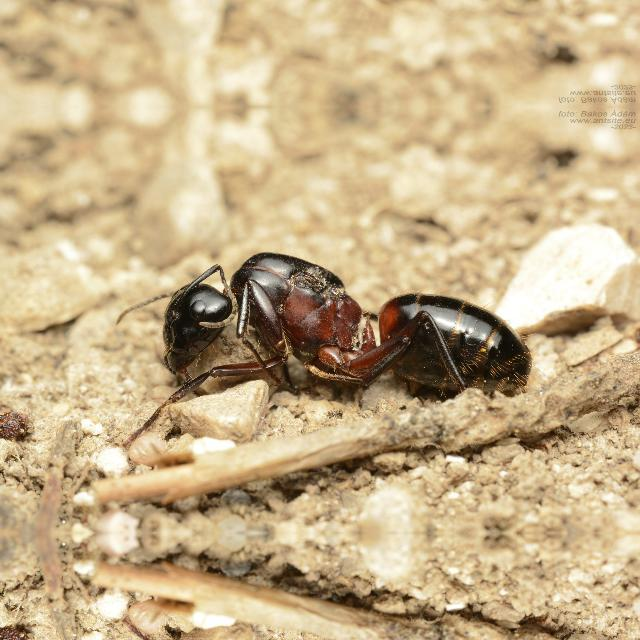Camponotus: (120, 225, 590, 428)
